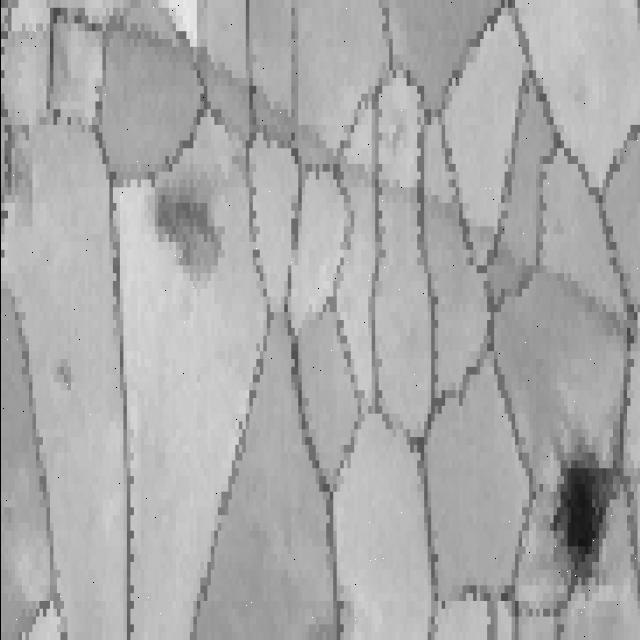good_void: (142, 155, 230, 299), (547, 441, 634, 583), (43, 341, 79, 415)
